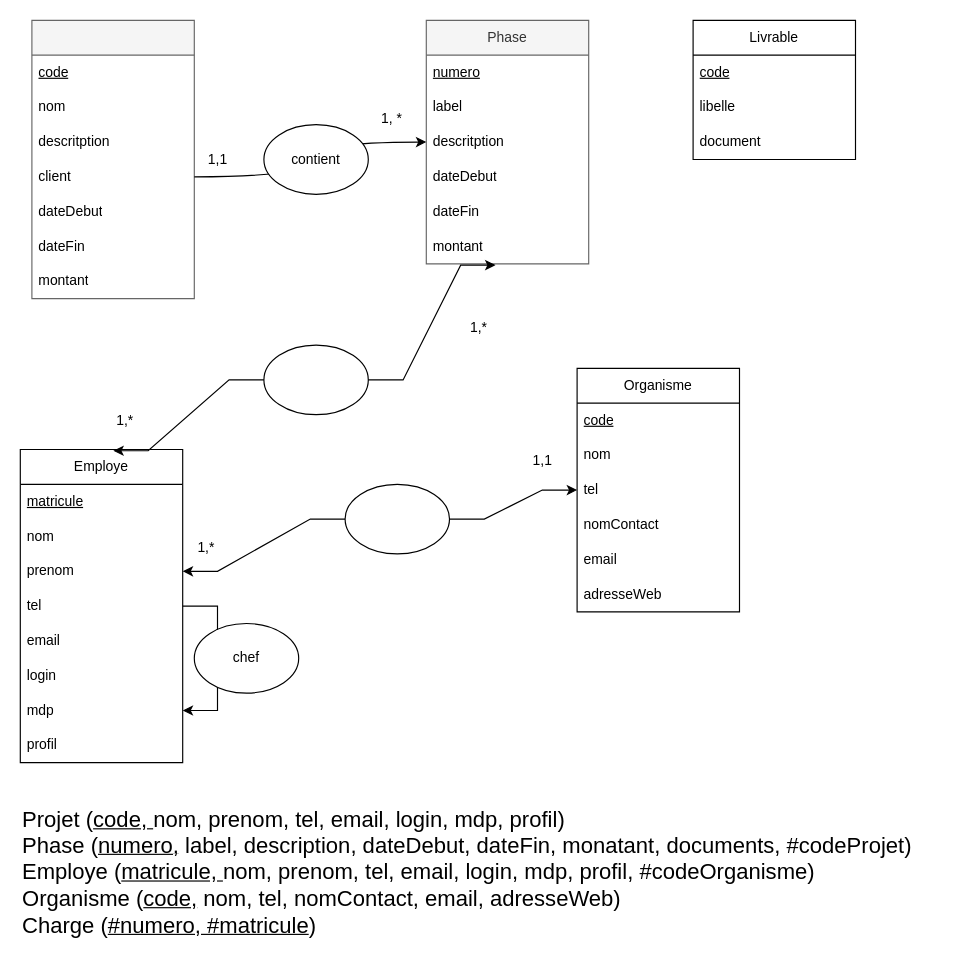
The diagram is 957 pixels wide and 969 high, and some of its shapes have lost their labels. The shapes that lost their labels are listed below. From the top down, each one's box as (x1, y1, x2, y2) in pixels, then its label:
(31, 19, 194, 299): Projet
(263, 344, 368, 415): chargé
(344, 483, 449, 554): appartient
